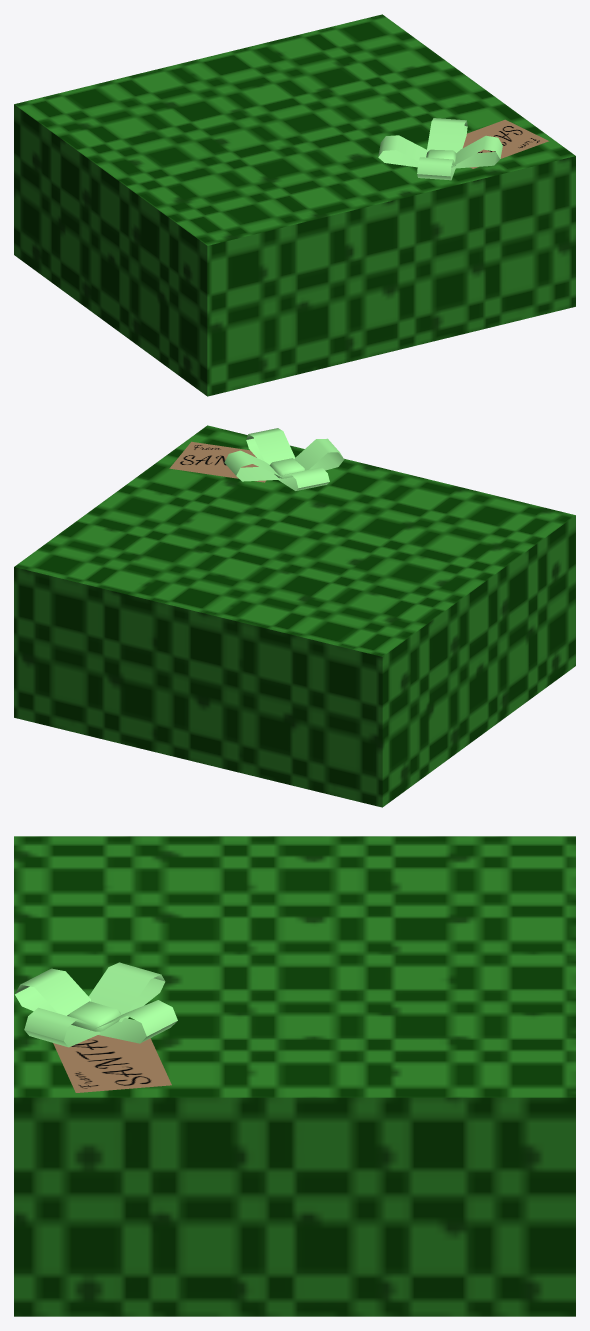
Rendered from christmas_present_05.fbx.
3 renders of one model, top to bottom at view 1: azimuth 30°, elevation 25°; view 2: azimuth 150°, elevation 25°; view 3: azimuth 270°, elevation 25°, orthographic. The views are drawn at different scales.
Visible parts, largest first — view 1: xmas-present_05; view 2: xmas-present_05; view 3: xmas-present_05.
Part boxes in pixels (left/top/right/bottom): xmas-present_05: left=14, top=14, right=575, bottom=396; xmas-present_05: left=14, top=425, right=575, bottom=807; xmas-present_05: left=14, top=836, right=575, bottom=1316.
Bounding box in the file's own units: 38.21 × 17.02 × 34.75.
